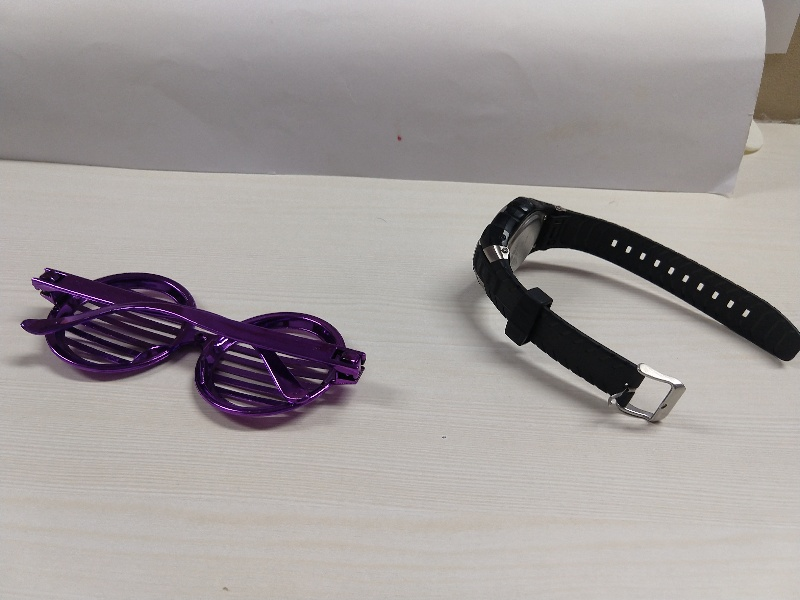shades: (16, 263, 387, 415)
watch: (458, 191, 799, 432)
